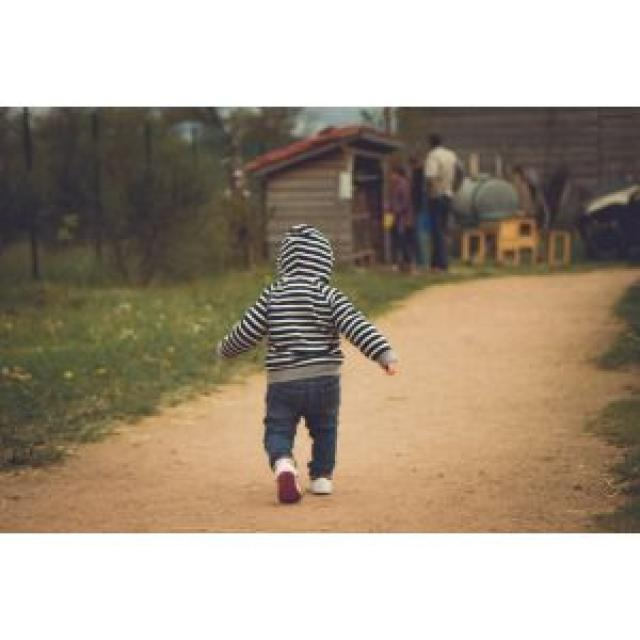nonfall: (249, 214, 381, 502), (406, 118, 491, 290)
